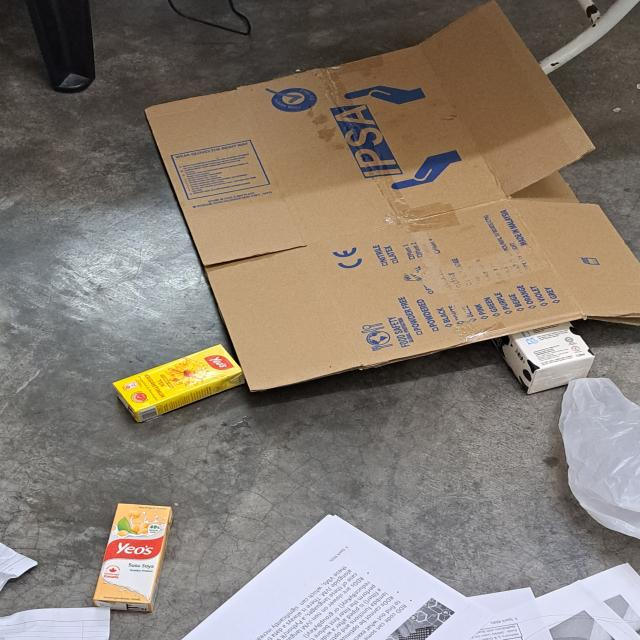cardboard: (142, 2, 640, 391)
drink carton: (109, 344, 249, 426), (96, 501, 172, 616), (502, 322, 594, 396)
paper: (181, 512, 640, 640), (0, 543, 111, 640)
plastic bag: (561, 378, 640, 546)
